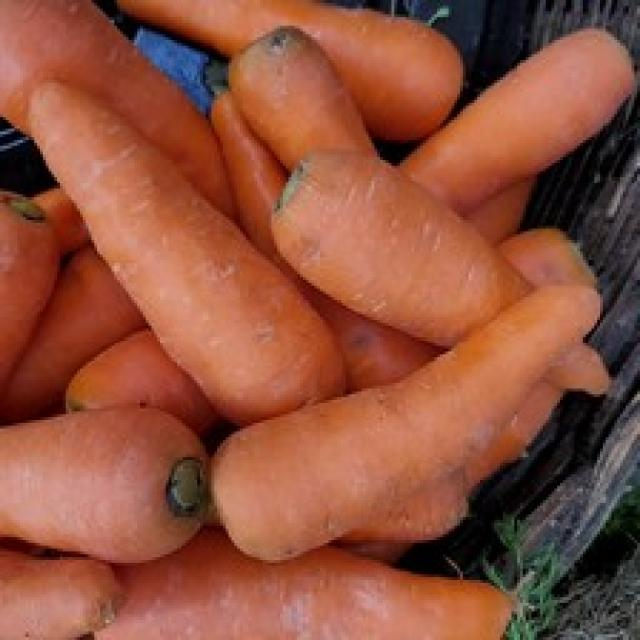Fresh_Carrot: (37, 86, 345, 425), (212, 287, 601, 548), (282, 148, 606, 395), (402, 34, 633, 226), (100, 542, 505, 640), (0, 424, 213, 571), (0, 239, 153, 427), (229, 27, 382, 182), (66, 324, 218, 446), (0, 193, 57, 411), (0, 554, 121, 640)
